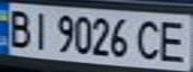0: (72, 12, 93, 56)
2: (90, 14, 112, 57)
6: (109, 15, 136, 60)
9: (51, 11, 75, 53)
B: (3, 6, 36, 48)
C: (133, 16, 166, 62)
E: (154, 16, 193, 64)
I: (27, 8, 54, 51)
